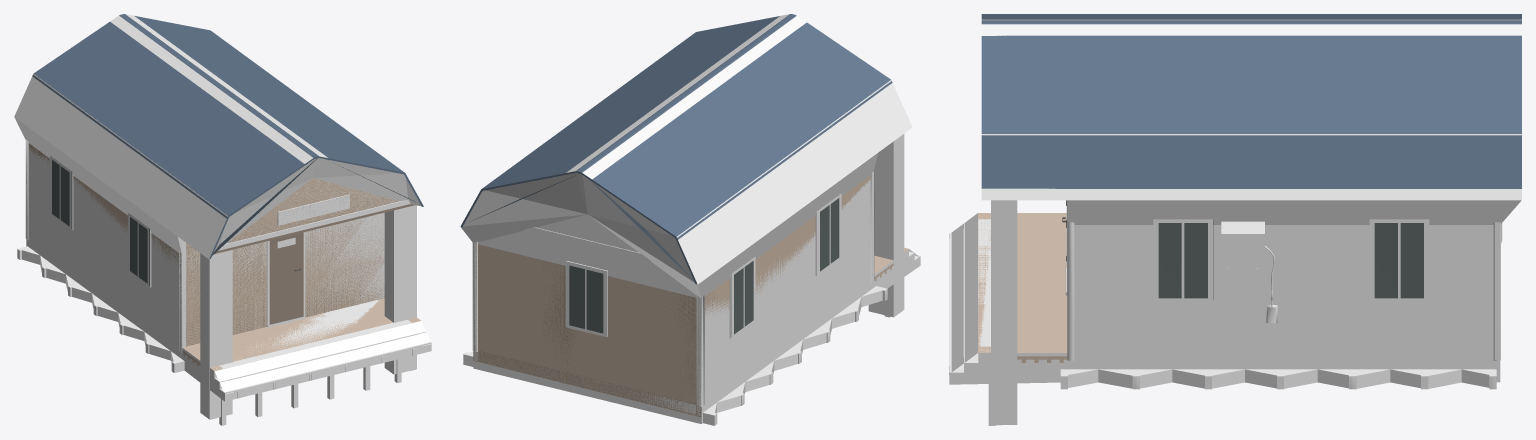
Rendered from si_res_small_building.dae.
3 views of the same model, side by side, from view 1: azimuth 30°, elevation 25°; view 2: azimuth 150°, elevation 25°; view 3: azimuth 270°, elevation 25° (orthographic). The views are drawn at different scales.
Parts seen in each view (by area): view 1: Colmesh-1, si_res_small_building_a500, si_res_small_building_a100, si_res_small_building_a2000, si_res_small_building_a20; view 2: Colmesh-1, si_res_small_building_a500, si_res_small_building_a100, si_res_small_building_a2000, si_res_small_building_a20; view 3: Colmesh-1, si_res_small_building_a100, si_res_small_building_a500, si_res_small_building_a2000.
Part boxes in pixels (left/top/right/bottom): Colmesh-1: left=14, top=14, right=431, bottom=417; si_res_small_building_a500: left=17, top=17, right=422, bottom=425; si_res_small_building_a100: left=19, top=15, right=430, bottom=419; si_res_small_building_a2000: left=20, top=14, right=423, bottom=425; si_res_small_building_a20: left=30, top=145, right=415, bottom=344; Colmesh-1: left=460, top=14, right=920, bottom=423; si_res_small_building_a500: left=462, top=16, right=892, bottom=425; si_res_small_building_a100: left=464, top=16, right=918, bottom=417; si_res_small_building_a2000: left=461, top=14, right=903, bottom=424; si_res_small_building_a20: left=470, top=174, right=715, bottom=416; Colmesh-1: left=949, top=19, right=1521, bottom=424; si_res_small_building_a100: left=949, top=35, right=1521, bottom=389; si_res_small_building_a500: left=949, top=14, right=1521, bottom=425; si_res_small_building_a2000: left=949, top=20, right=1521, bottom=425.
Bounding box in the file's own units: 5.27 × 7.95 × 5.28.
